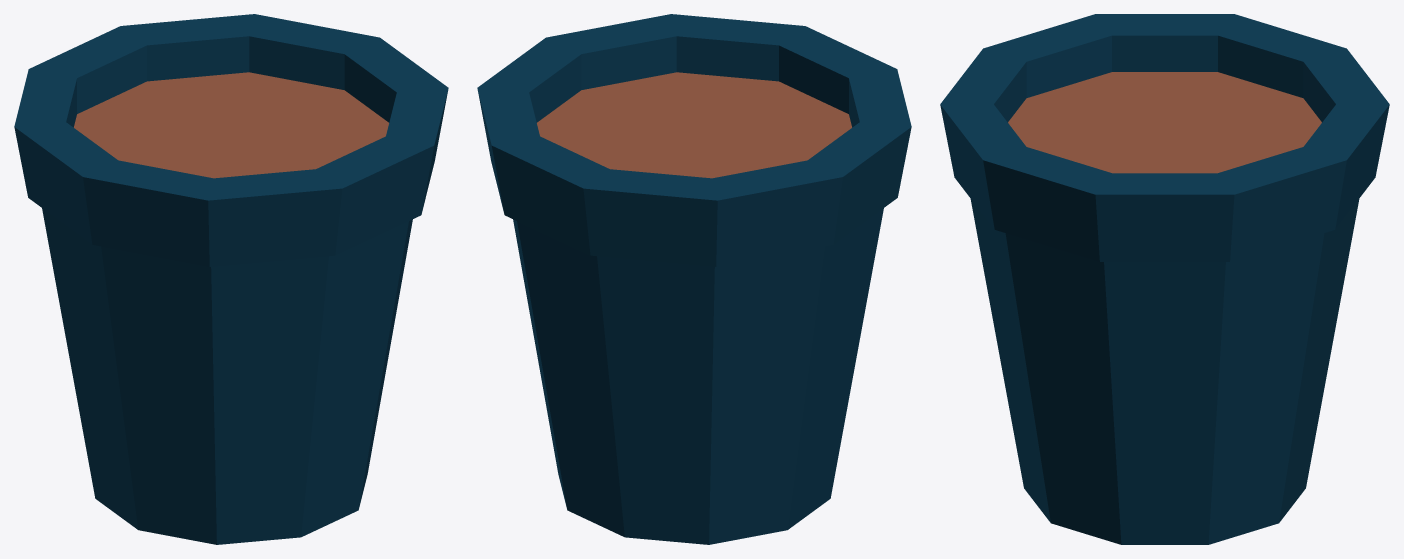
File: Pot_2.fbx
The picture shows the model from 3 angles, left to right: view 1: azimuth 30°, elevation 25°; view 2: azimuth 150°, elevation 25°; view 3: azimuth 270°, elevation 25°; orthographic projection.
Visible parts, largest first — view 1: Pot_2; view 2: Pot_2; view 3: Pot_2.
Boxes of the visible parts, x1,y1,x2,y2 form: Pot_2: (14,14,448,544); Pot_2: (477,14,911,544); Pot_2: (940,14,1389,544).
Bounding box in the file's own units: 30.37 × 30.09 × 31.93.
